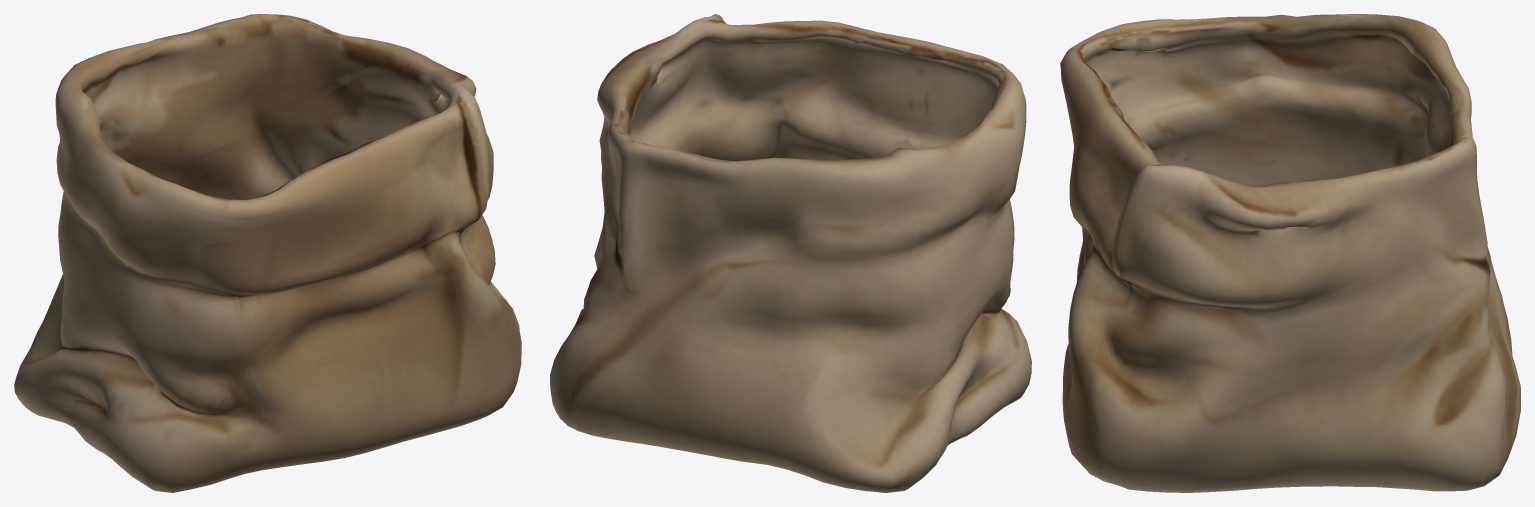
Rendered from bakery paper bag.fbx.
The picture shows the model from 3 angles, left to right: view 1: azimuth 30°, elevation 25°; view 2: azimuth 150°, elevation 25°; view 3: azimuth 270°, elevation 25°; orthographic projection. The views are drawn at different scales.
Parts seen in each view (by area): view 1: paper_bag; view 2: paper_bag; view 3: paper_bag.
Boxes of the visible parts, x1,y1,x2,y2 form: paper_bag: (14, 14, 521, 492); paper_bag: (550, 14, 1031, 492); paper_bag: (1060, 14, 1520, 492).
Size of the model in its own units: 87.83 by 70.95 by 84.67.
1 material, 1 textured.
